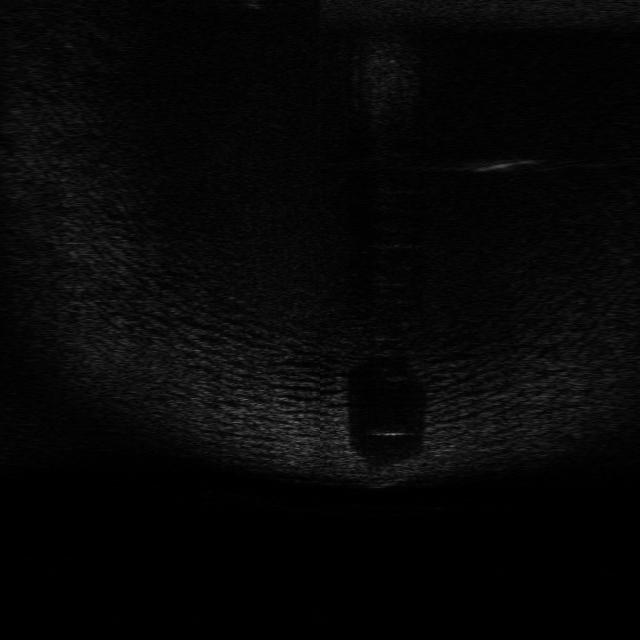cube: (359, 453, 418, 489)
